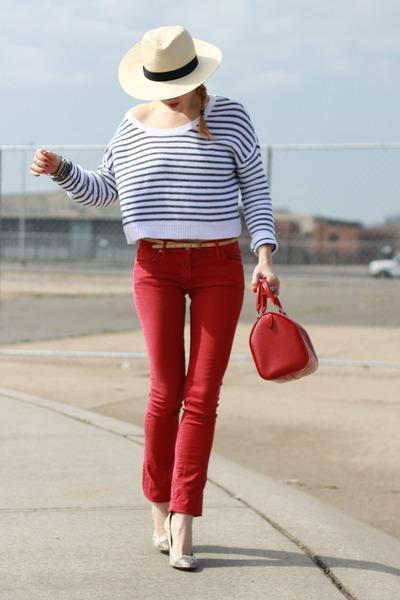sweater: (53, 95, 280, 250)
trousers: (129, 235, 246, 514)
